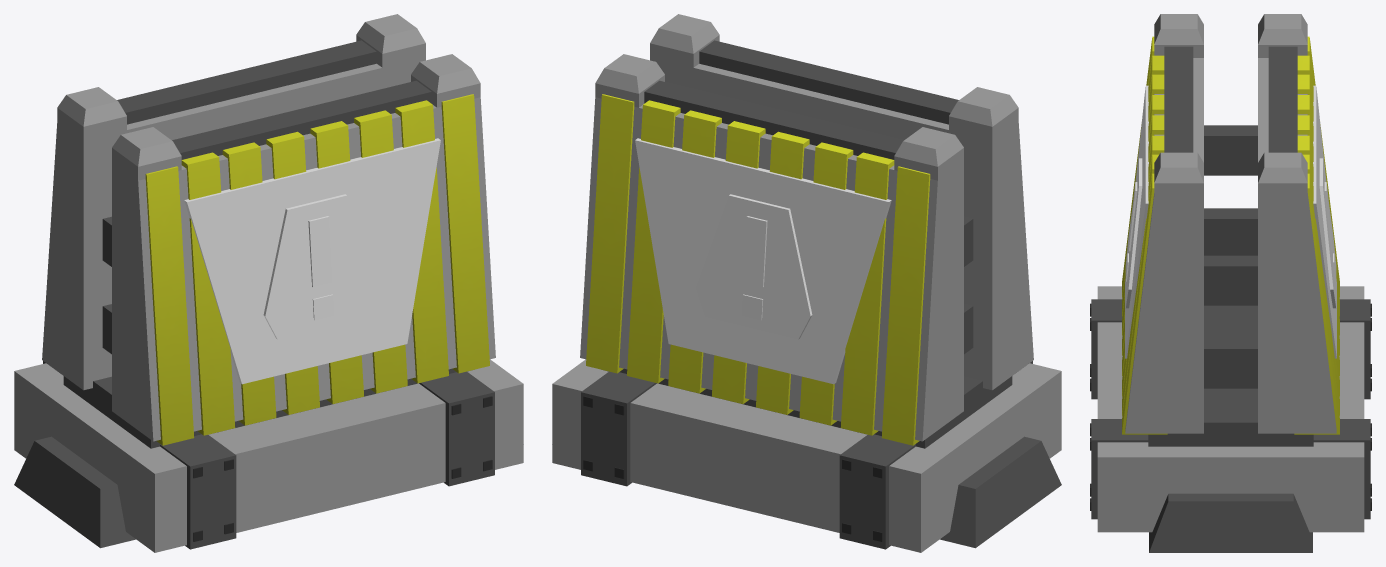
File: working_barrier_01.fbx
3 views of the same model, side by side, from view 1: azimuth 30°, elevation 25°; view 2: azimuth 150°, elevation 25°; view 3: azimuth 270°, elevation 25° (orthographic). The views are drawn at different scales.
Parts seen in each view (by area): view 1: barrier, panel; view 2: barrier, panel; view 3: barrier, panel.
Boxes of the visible parts, x1,y1,x2,y2 form: barrier: (14,14,523,552); panel: (184,138,440,384); barrier: (552,14,1061,552); panel: (635,138,891,384); barrier: (1090,14,1371,552); panel: (1125,85,1336,358).
Bounding box in the file's own units: 115 × 99.32 × 69.7.
